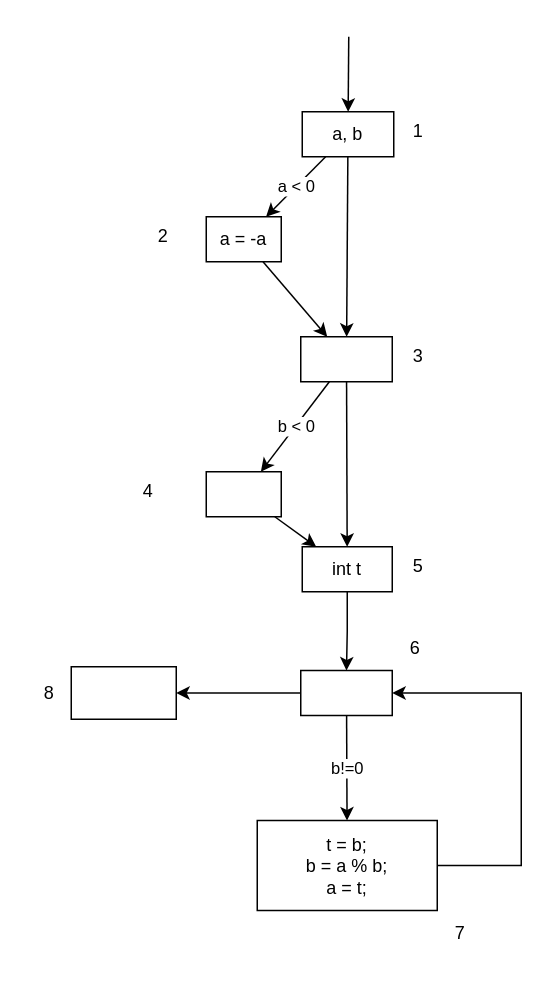
The diagram is 560 pixels wide and 981 high, and some of its shapes have lost their labels. The box of each missing label's shape, as (x1, y1, x2, y2) in pixels:
b = -b: (205, 470, 281, 517)
return a: (70, 665, 176, 719)
